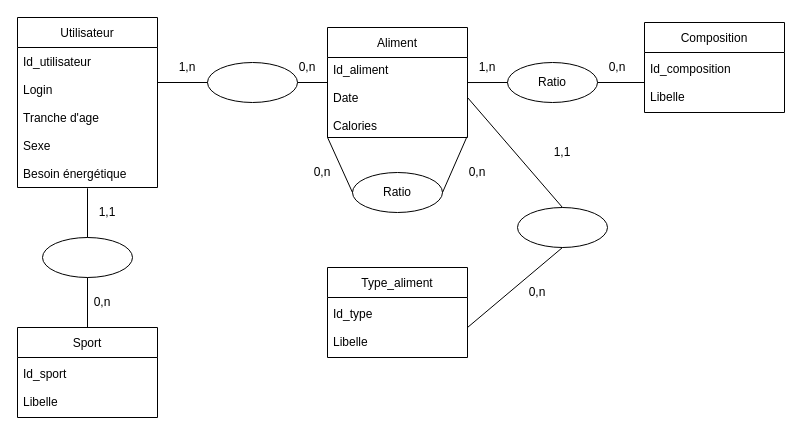
Some shapes in this 802 by 435 pixel diagram are drawn without their labels. The centre of each missing label's shape, as x and y in pixels:
Appartenir: pixel 562 227
Pratiquer: pixel 87 257
Quantité: pixel 252 82
